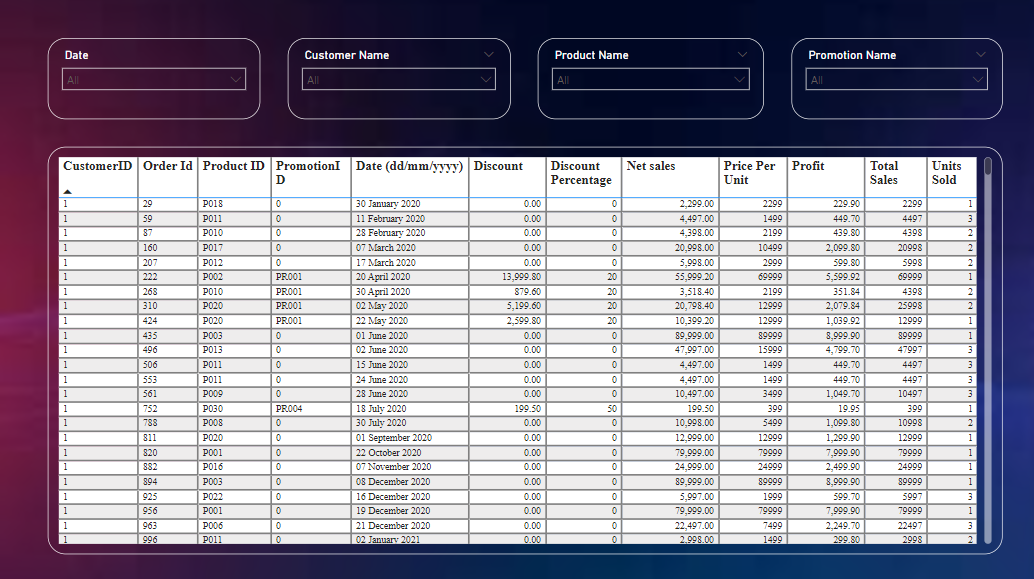

This screenshot's page, from the dashboard's own definition file:
{"tool":"powerbi","page":{"name":"Tabel visiual","canvas":[1280,720],"ordinal":4},"visuals":[{"type":"tableEx","fields":{"Values":["Fact table.CustomerID","Fact table.Order Id","Fact table.Product ID","Fact table.PromotionID","Fact table.Date (dd/mm/yyyy)","Fact table.Discount","Fact table.Discount Percentage","Fact table.Net sales","Fact table.Price Per Unit (INR)","Fact table.Profit","Fact table.Total Sales  ","Fact table.Units Sold"]},"box":[60.3,183.5,1174.9,501.9],"z":0},{"type":"slicer","fields":{"Values":["Date Table 1.Date"]},"box":[60.3,48.8,261.6,100.2],"z":1000},{"type":"slicer","fields":{"Values":["Dim Customers.Customer Name"]},"box":[355.2,49.3,274,100.3],"z":2000},{"type":"slicer","fields":{"Values":["Dim Product.Product Name"]},"box":[663,49.3,278.5,100.3],"z":3000},{"type":"slicer","fields":{"Values":["Dim Promotion.Promotion Name"]},"box":[975.2,49.3,259.7,100.3],"z":4000}]}

Visuals, with their boxes in screenshot pixels (x1, y1, x2, y2), scaled from the page's 1280x720 canvas onto the 1034x579 screenshot:
tableEx - Fact table.CustomerID x Fact table.Order Id: <bbox>49, 148, 998, 551</bbox>
slicer - Date Table 1.Date: <bbox>49, 39, 260, 120</bbox>
slicer - Dim Customers.Customer Name: <bbox>287, 40, 508, 120</bbox>
slicer - Dim Product.Product Name: <bbox>536, 40, 761, 120</bbox>
slicer - Dim Promotion.Promotion Name: <bbox>788, 40, 998, 120</bbox>
